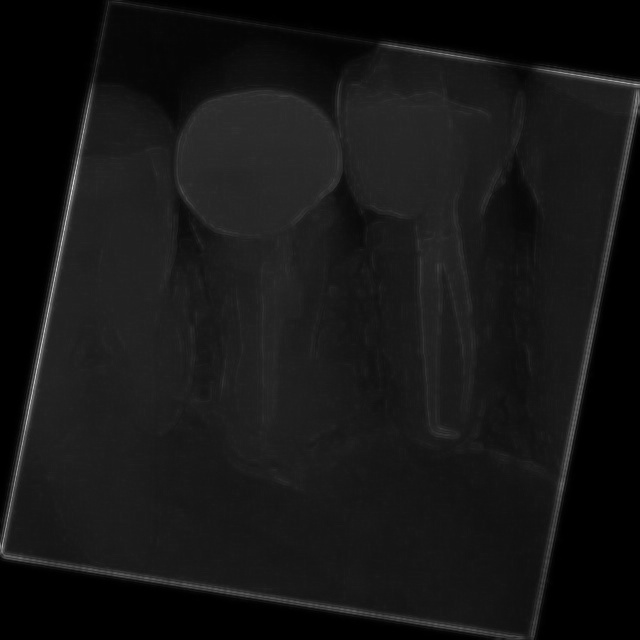Class 0- No endodontic treatment: (260, 37, 604, 486)
Class 1- complete endodontic treatment: (91, 64, 420, 484)
